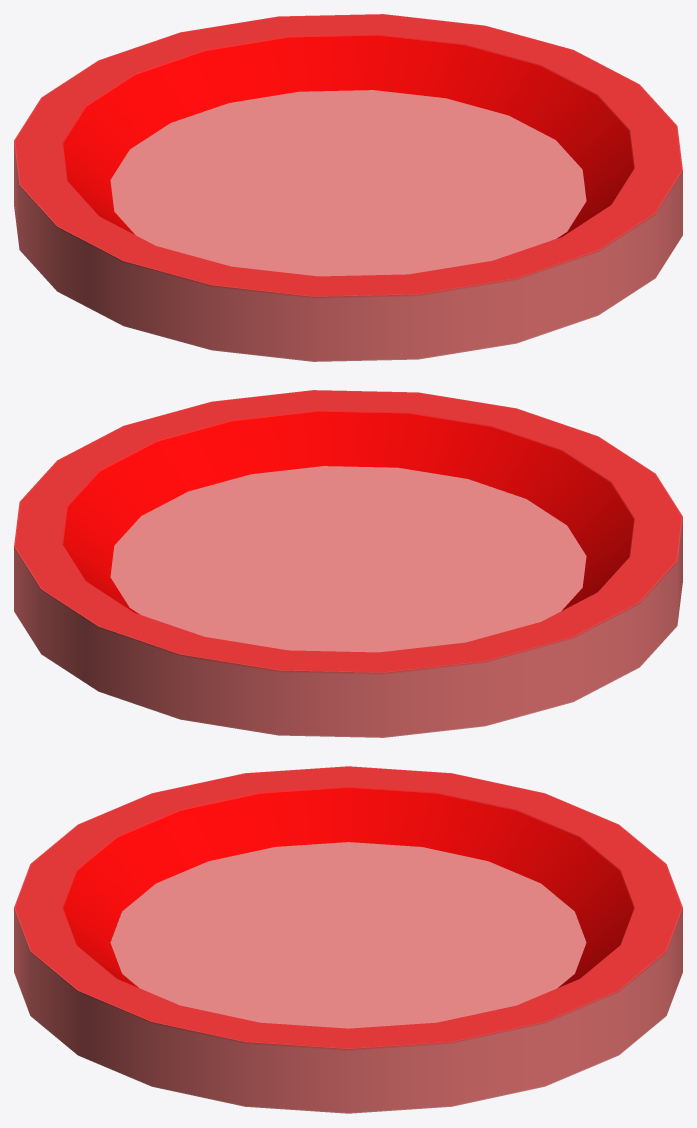
Rendered from plateTest.obj.
3 views of the same model, one above another, from view 1: azimuth 30°, elevation 25°; view 2: azimuth 150°, elevation 25°; view 3: azimuth 270°, elevation 25° (orthographic).
Parts seen in each view (by area): view 1: plateTest:pCylinder1; view 2: plateTest:pCylinder1; view 3: plateTest:pCylinder1.
Boxes of the visible parts, x1=… form: plateTest:pCylinder1: x1=14, y1=14, x2=682, y2=361; plateTest:pCylinder1: x1=14, y1=390, x2=682, y2=737; plateTest:pCylinder1: x1=14, y1=766, x2=682, y2=1113.
Bounding box in the file's own units: 0.843 × 0.1387 × 0.843.
